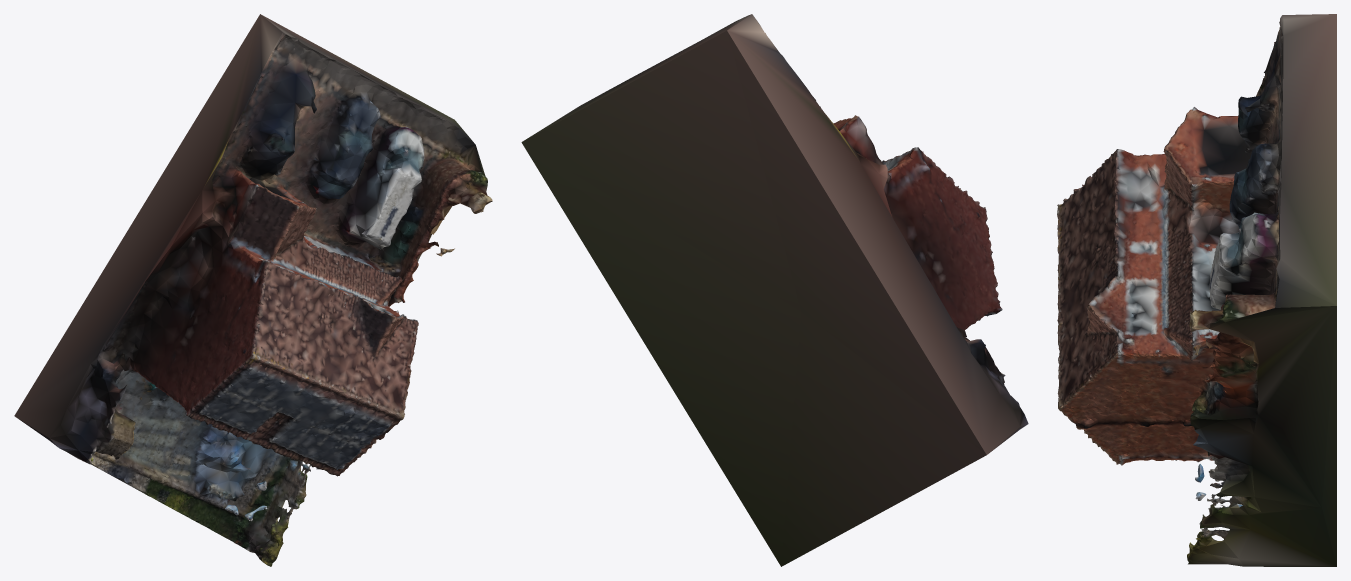
The model's file is scan_of_house_LOD0.glb.
3 views of the same model, side by side, from view 1: azimuth 30°, elevation 25°; view 2: azimuth 150°, elevation 25°; view 3: azimuth 270°, elevation 25° (orthographic). The views are drawn at different scales.
Parts seen in each view (by area): view 1: Mesh_0_Part_0; view 2: Mesh_0_Part_0; view 3: Mesh_0_Part_0.
Boxes of the visible parts, <box> form: Mesh_0_Part_0: <box>14,14,492,566</box>; Mesh_0_Part_0: <box>521,14,1028,566</box>; Mesh_0_Part_0: <box>1057,14,1336,566</box>.
Bounding box in the file's own units: 22.48 × 24.15 × 10.52.
